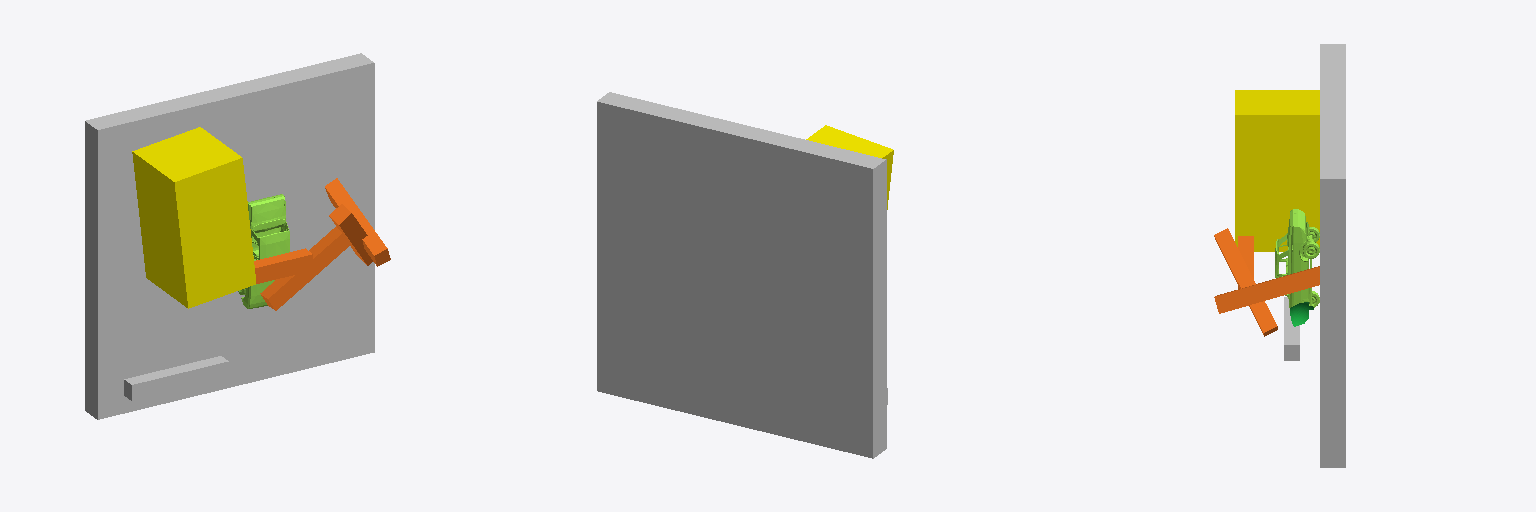
The model's file is tb9_Moskvitch.obj.
3 renders of one model, left to right at view 1: azimuth 30°, elevation 25°; view 2: azimuth 150°, elevation 25°; view 3: azimuth 270°, elevation 25°, orthographic.
Parts seen in each view (by area): view 1: Object.4, Object.1, Object.5, Object.3, Object.2; view 2: Object.4, Object.1; view 3: Object.1, Object.4, Object.5, Object.3, Object.2.
Part boxes in pixels (x1,y1,x2,y2): Object.4: (85,53,374,419); Object.1: (132,127,255,308); Object.5: (254,178,390,310); Object.3: (238,194,289,308); Object.2: (124,356,228,400); Object.4: (597,92,886,458); Object.1: (806,125,893,209); Object.1: (1235,90,1319,251); Object.4: (1320,44,1345,467); Object.5: (1214,228,1319,336); Object.3: (1275,209,1319,326); Object.2: (1284,297,1299,360).
Size of the model in its own units: 30887 by 30888 by 12738.